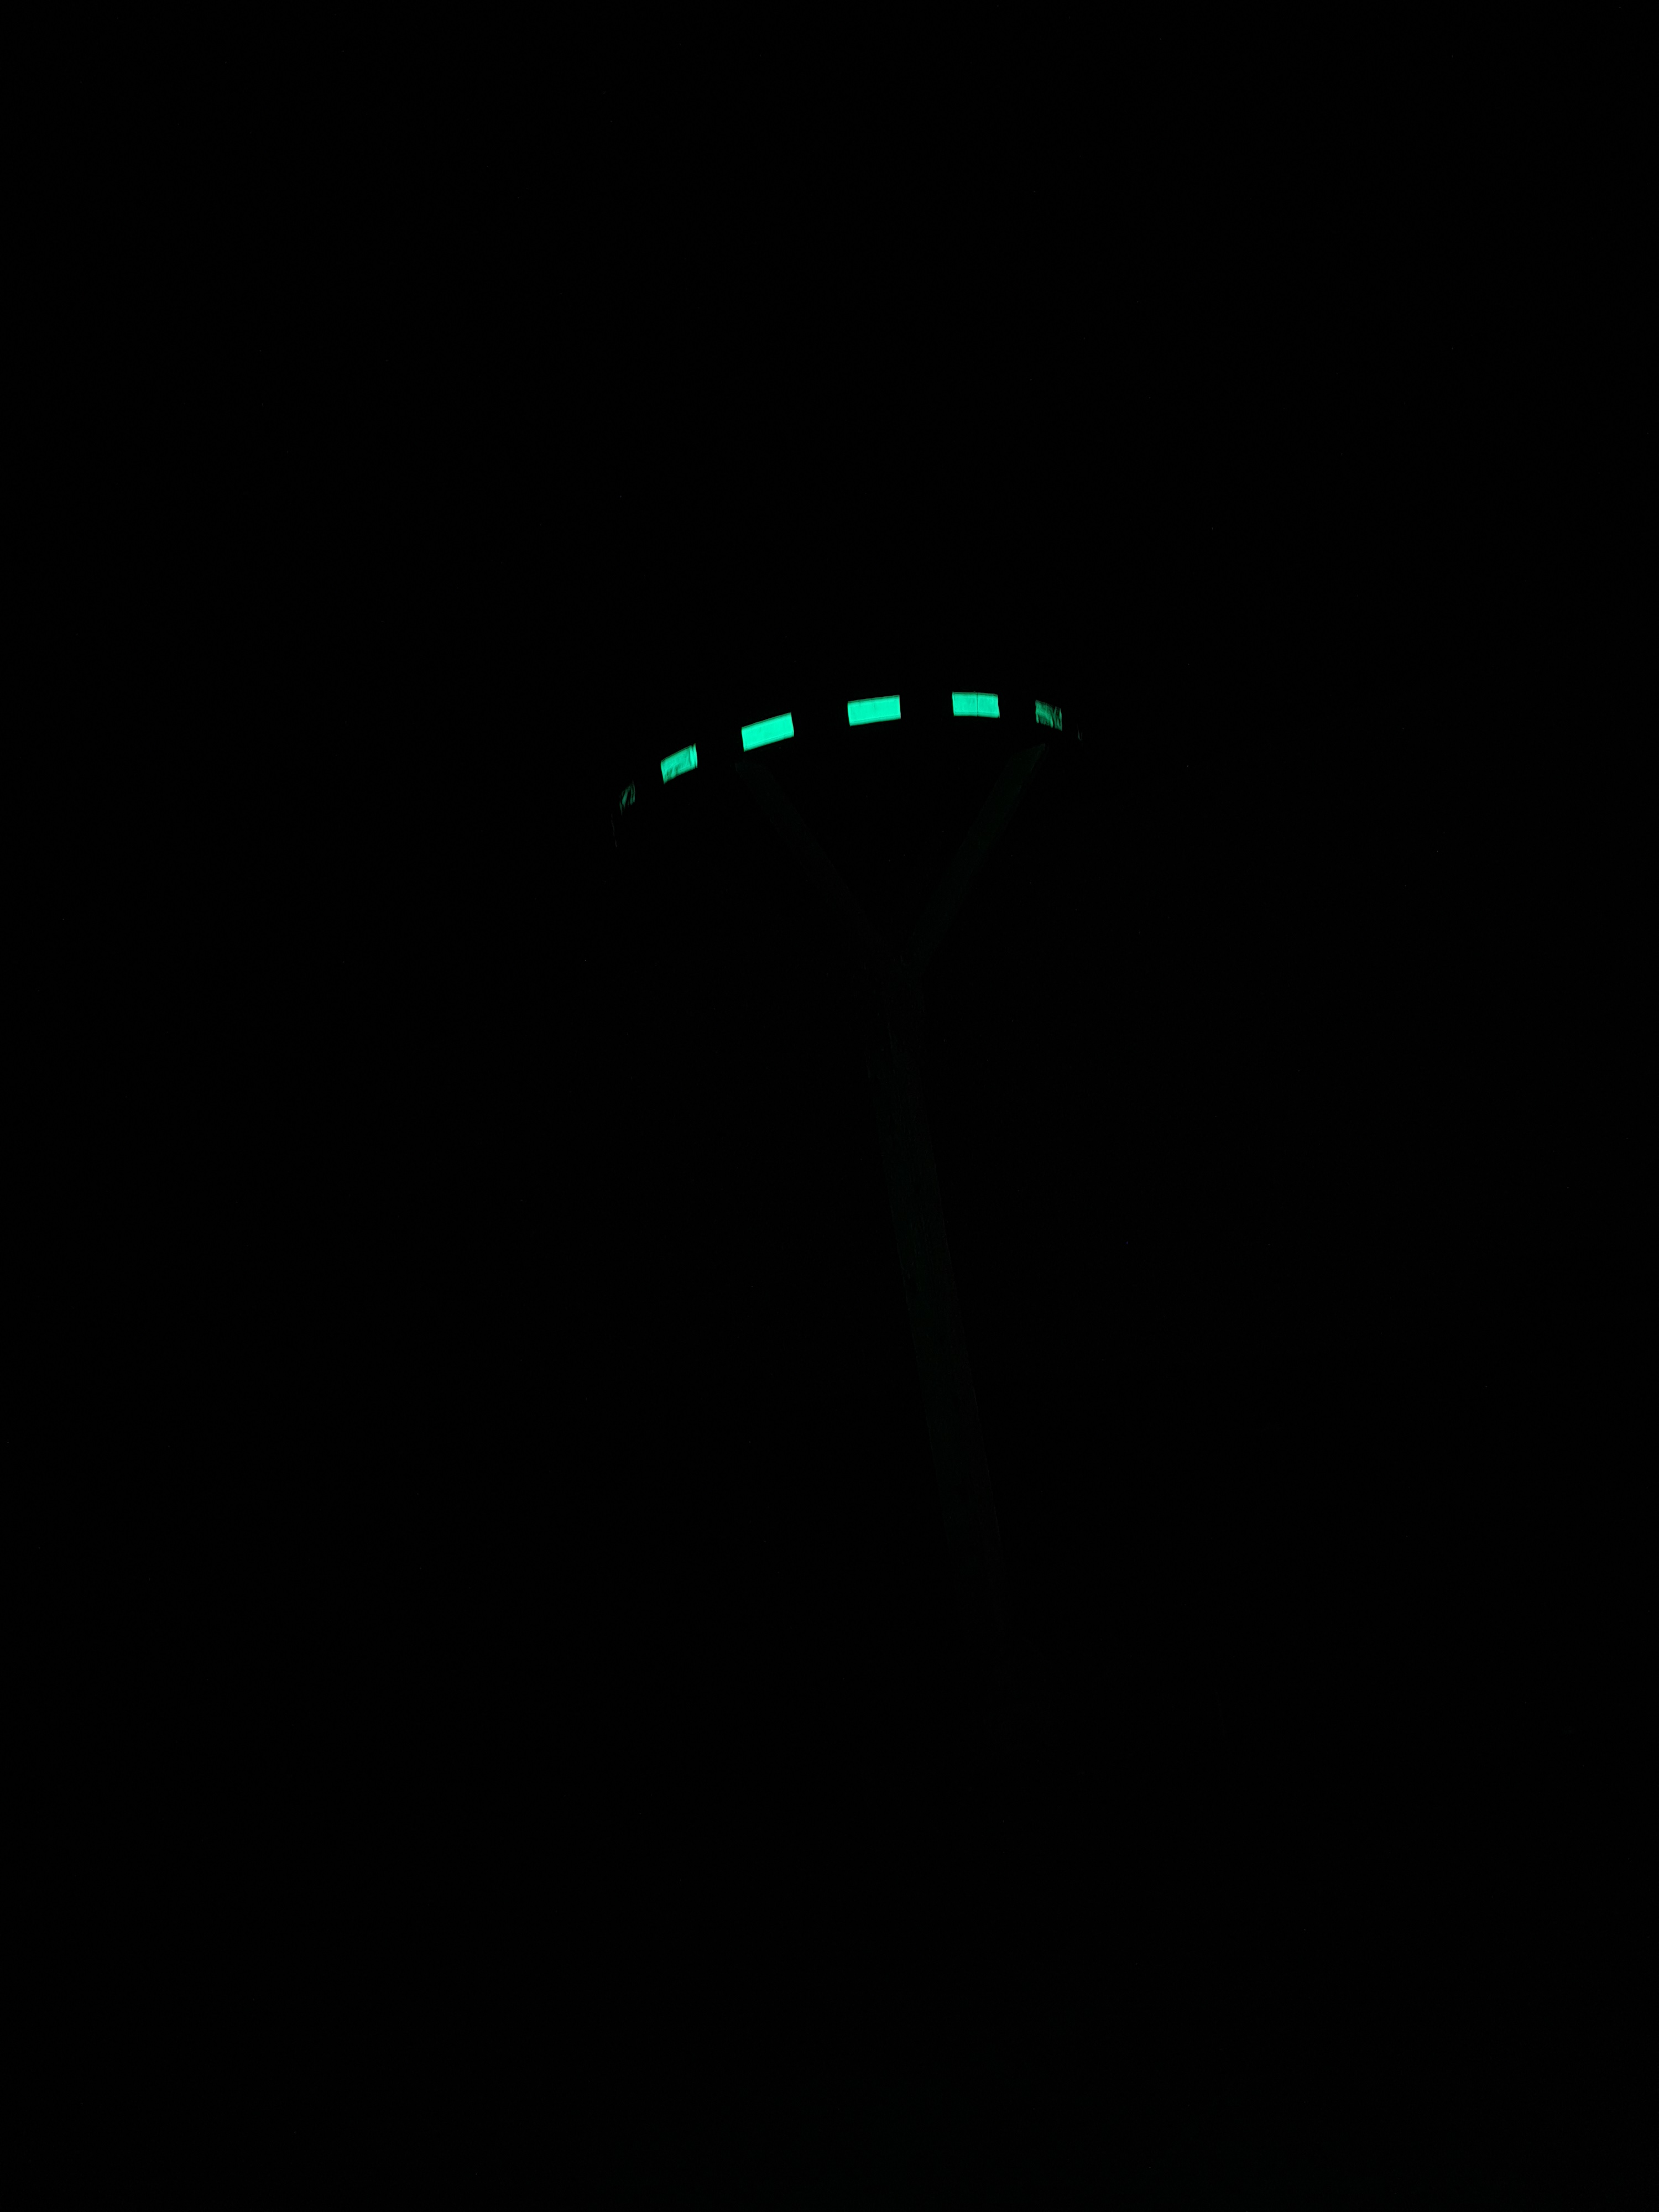hoop: (617, 686, 1070, 815)
